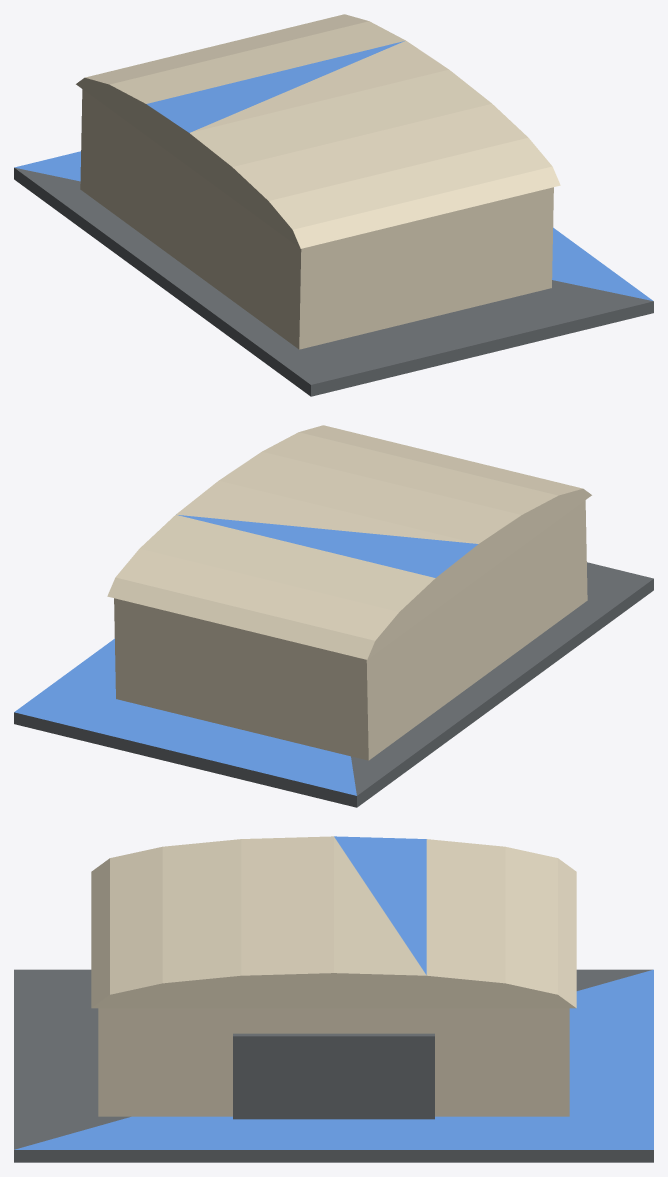
File: meridian_barracks_damaged.glb
3 renders of one model, top to bottom at view 1: azimuth 30°, elevation 25°; view 2: azimuth 150°, elevation 25°; view 3: azimuth 270°, elevation 25°, orthographic. The views are drawn at different scales.
Visible parts, largest first — view 1: hull; view 2: hull; view 3: hull, door.
Part boxes in pixels (<box>): hull: <box>14,14,653,396</box>; hull: <box>14,425,653,807</box>; hull: <box>14,836,653,1162</box>; door: <box>233,1033,434,1119</box>.
Bounding box in the file's own units: 7.6 × 3.14 × 11.4.
